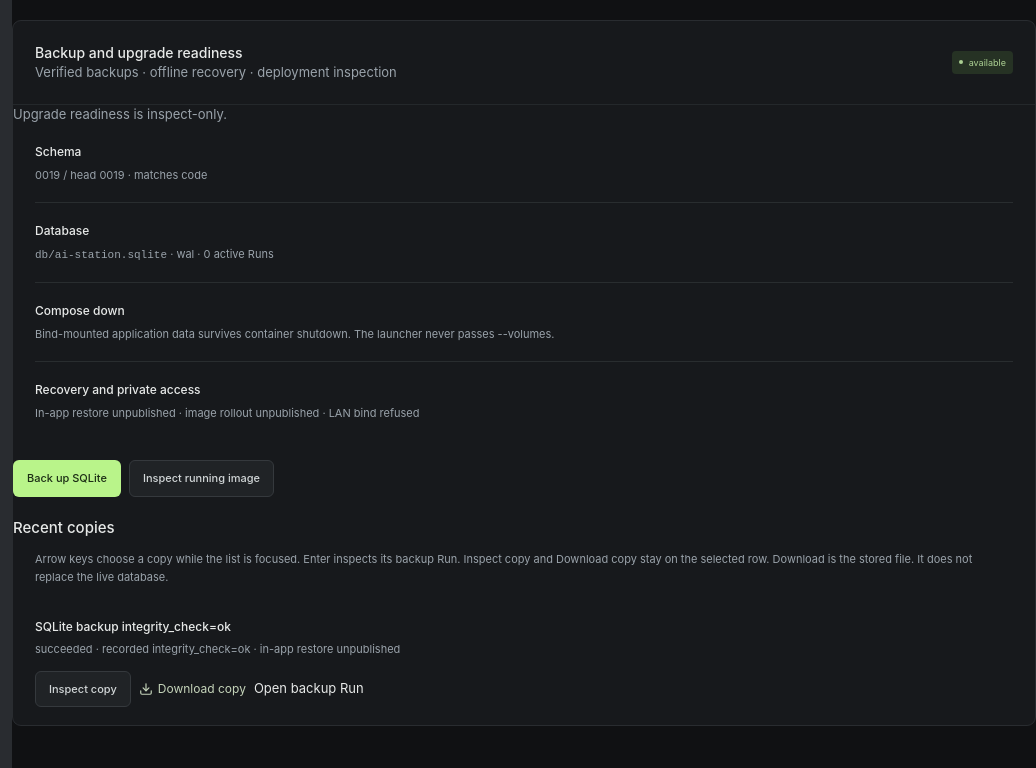
Test: re-checks a backup copy without offering restore or rollout
Expected: the text "recorded integrity_check=ok" is shown, [93, 642, 250, 656]
Click the button "Inspect copy" at (83, 689), box [35, 671, 131, 707]
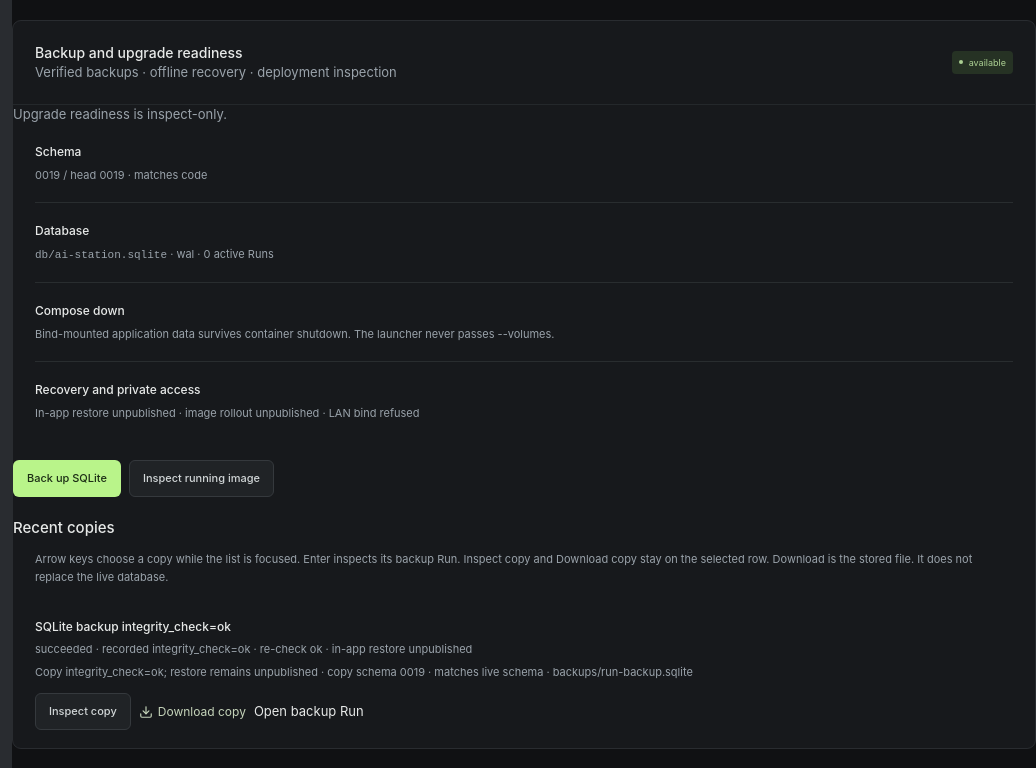
Now the text "matches live schema" is shown, box [425, 665, 543, 679]
Now the text "backups/run-backup.sqlite" is shown, box [543, 665, 693, 679]
